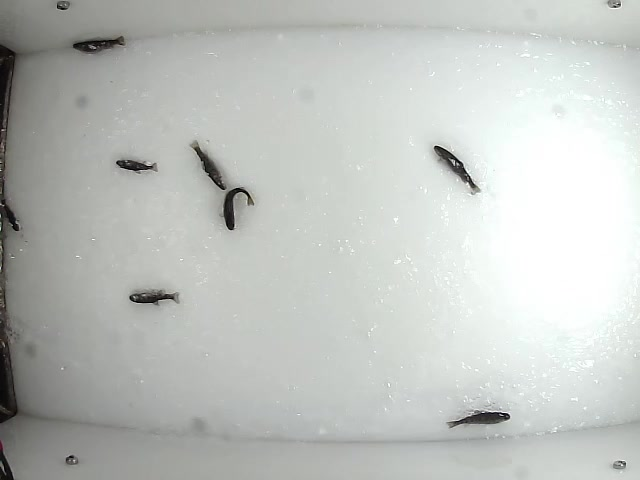fish: (432, 145, 482, 196), (187, 138, 229, 191), (217, 186, 255, 232), (445, 409, 511, 431), (71, 33, 127, 55), (128, 289, 182, 307), (115, 156, 159, 175)
